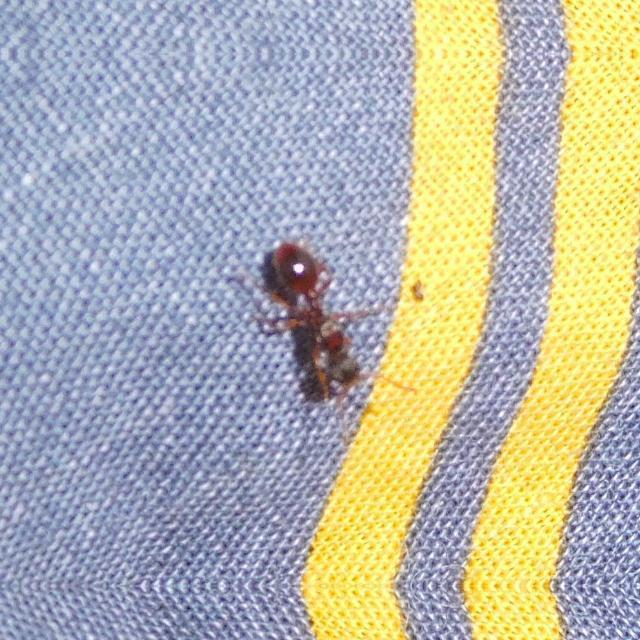Myrmica: (209, 202, 443, 440)
